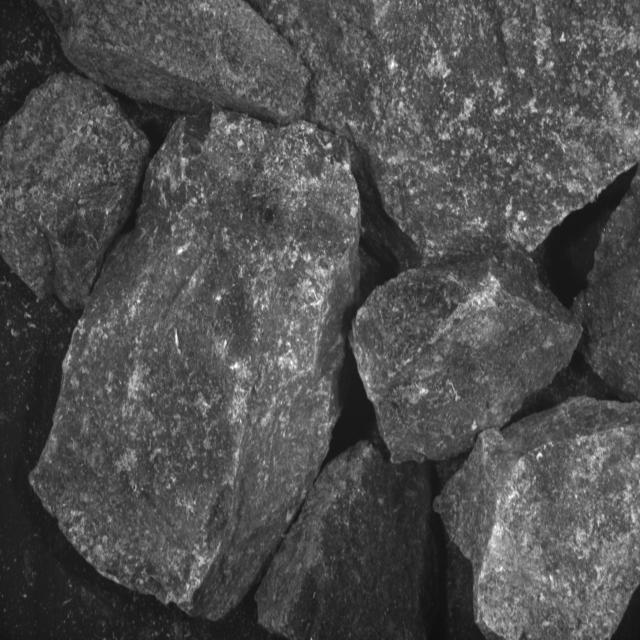Stones: (31, 112, 361, 621), (256, 1, 640, 267), (436, 398, 640, 640), (352, 251, 582, 463), (257, 442, 435, 640), (1, 74, 150, 309), (42, 1, 310, 126), (574, 169, 640, 403)
